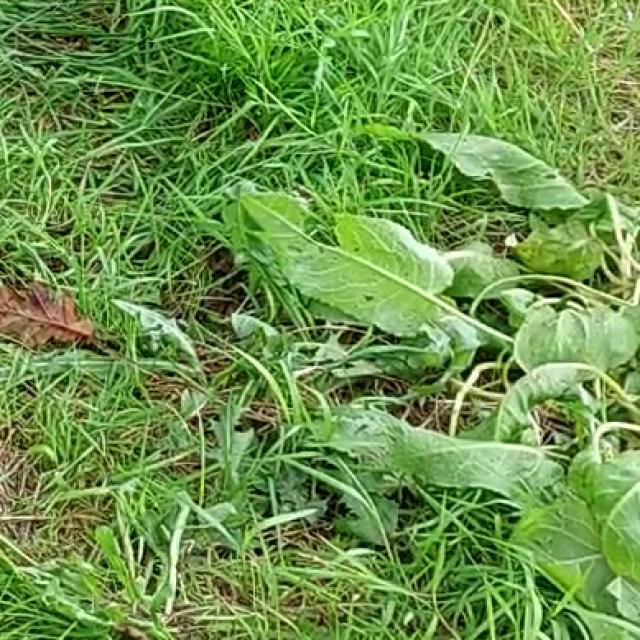organic waste: (229, 123, 607, 537)
